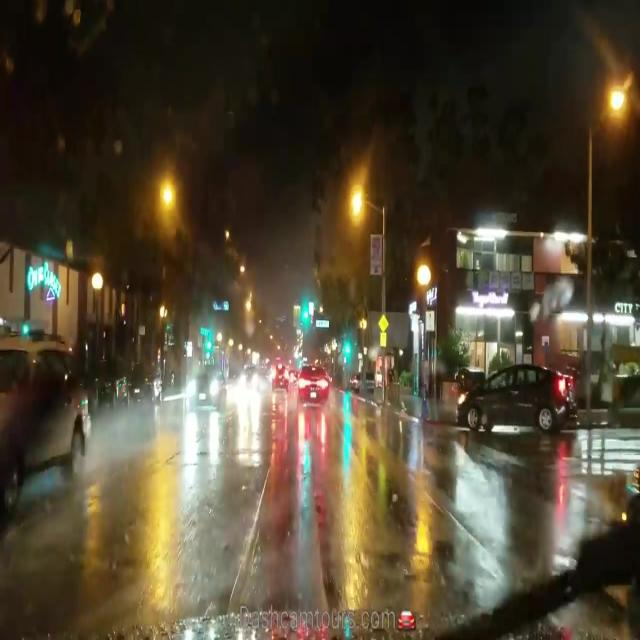Car: (0, 337, 94, 514), (454, 362, 577, 436), (185, 366, 225, 414), (293, 366, 328, 408)
